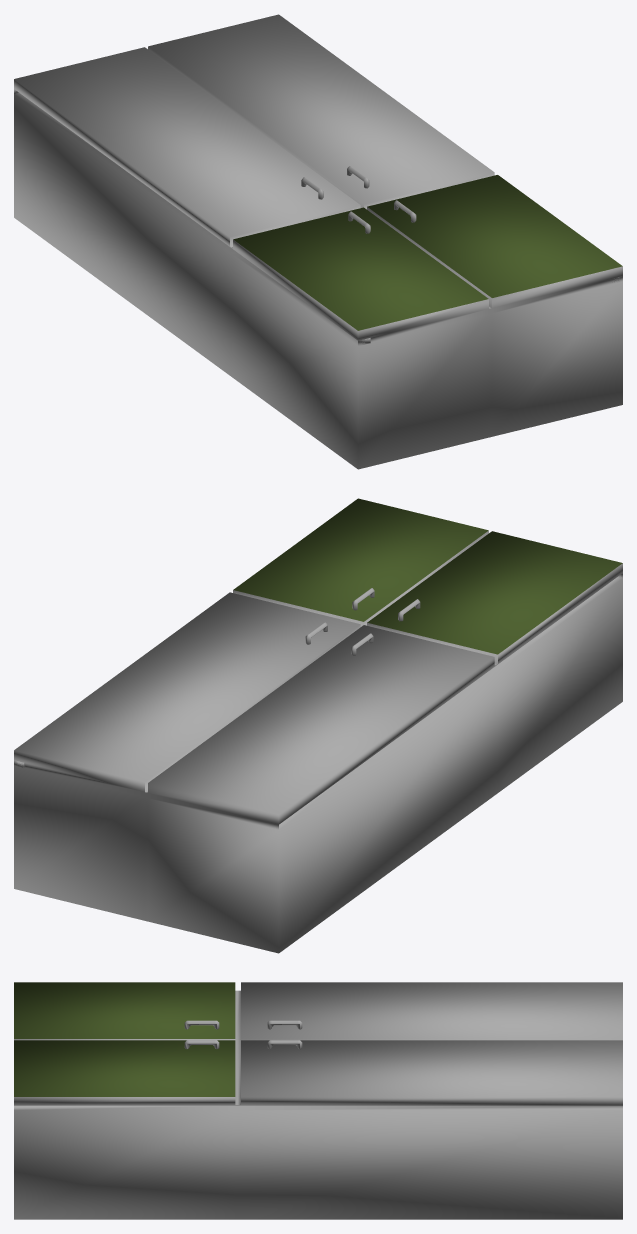
3 views of the same model, one above another, from view 1: azimuth 30°, elevation 25°; view 2: azimuth 150°, elevation 25°; view 3: azimuth 270°, elevation 25° (orthographic). The views are drawn at different scales.
Parts seen in each view (by area): view 1: Cube.004; view 2: Cube.004; view 3: Cube.004.
Part boxes in pixels (x1,y1,x2,y2): Cube.004: [14, 14, 622, 469]; Cube.004: [14, 498, 622, 953]; Cube.004: [14, 982, 622, 1219].
Bounding box in the file's own units: 80 × 42.66 × 180.
